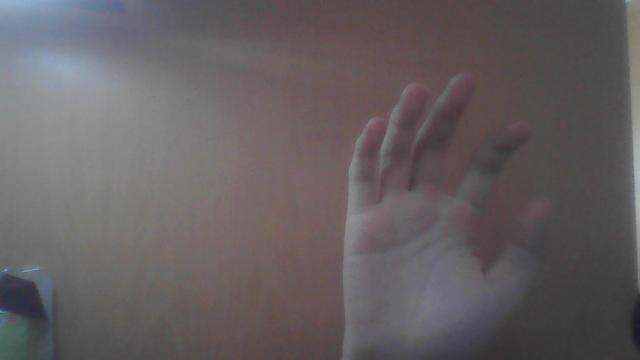Stop: (351, 72, 557, 360)
